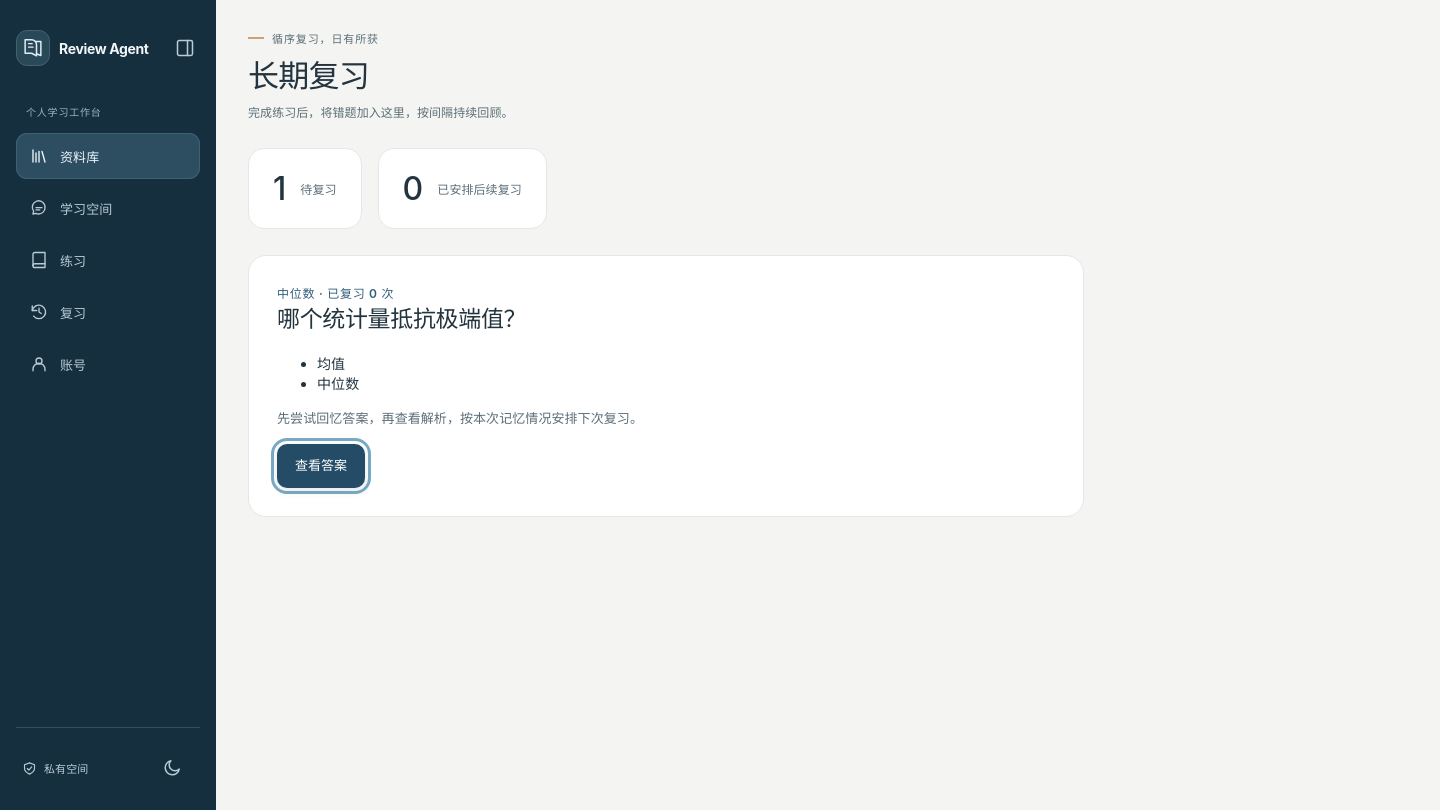
Test case: recall hides answers until keyboard reveal and retry reuses the rating identity
Expected: the text "排序后取中间位置。" is not shown
Press Enter
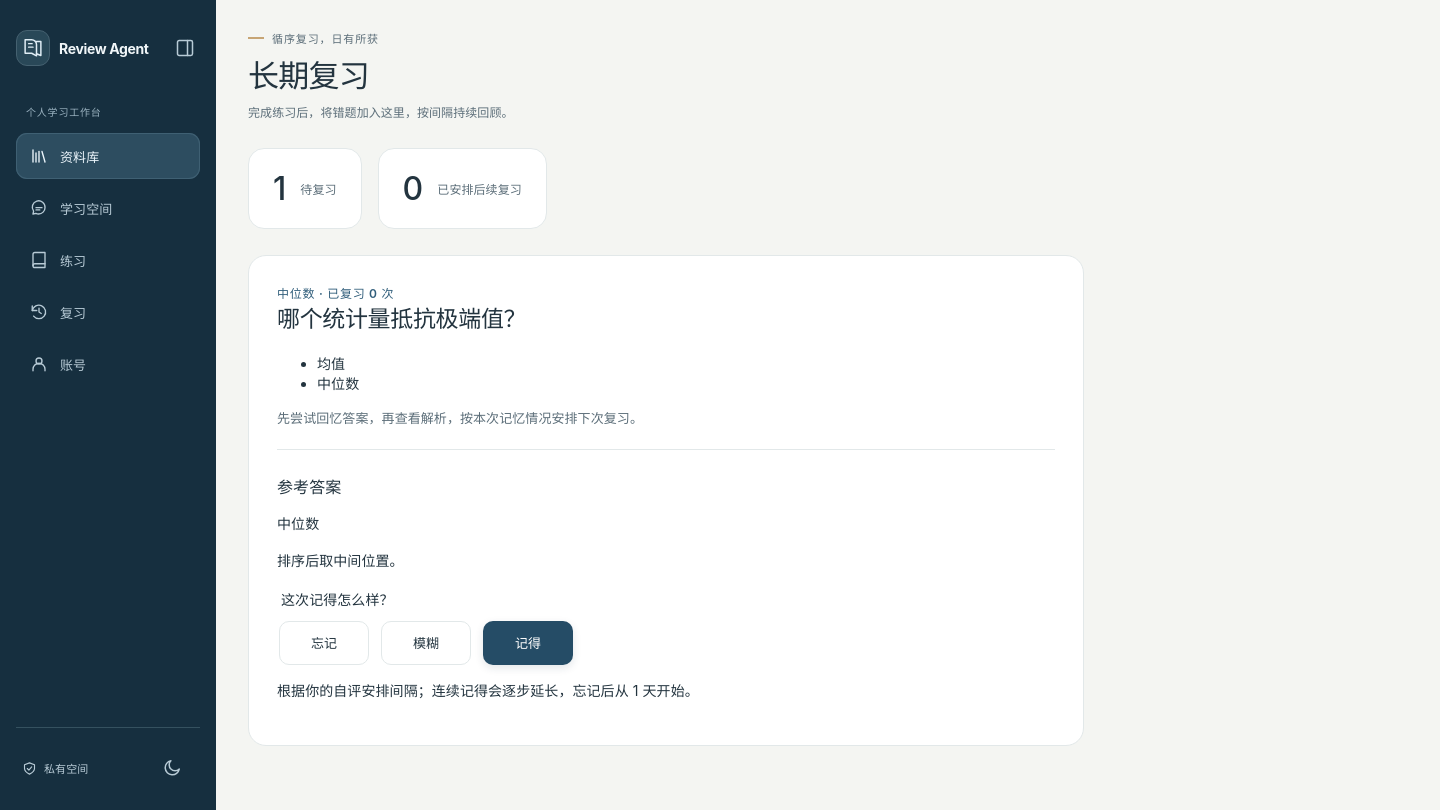
Expected: the text "排序后取中间位置。" is shown, [277,552,404,569]
Click the button "记得": point(528, 643) [483,621,573,665]
(page scrolled)
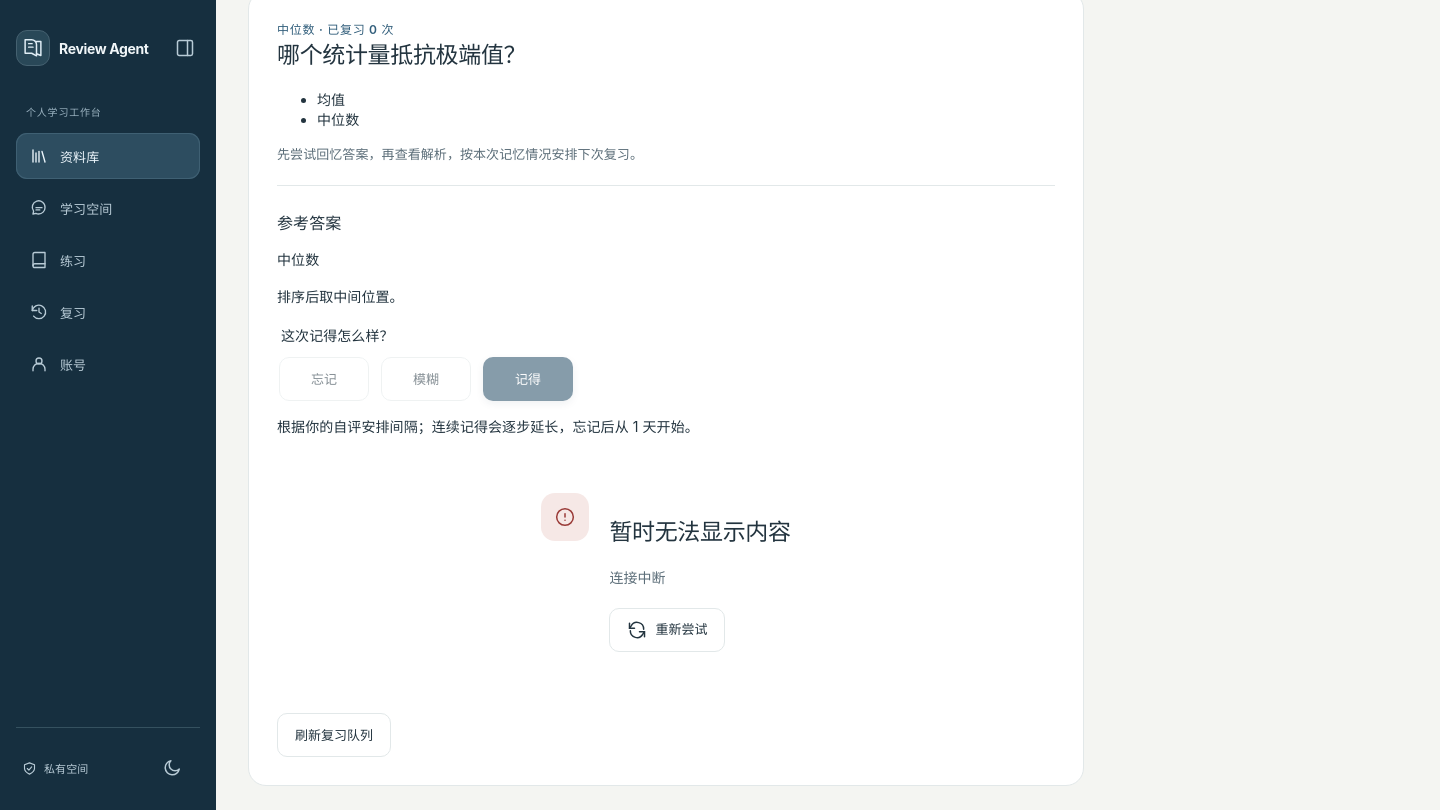
Expected: the button "忘记" is disabled, [279,357,369,401]
Expected: the text "连接中断" is shown, [609,569,666,586]
Click the button "重新尝试": point(667, 630) [609,608,725,652]
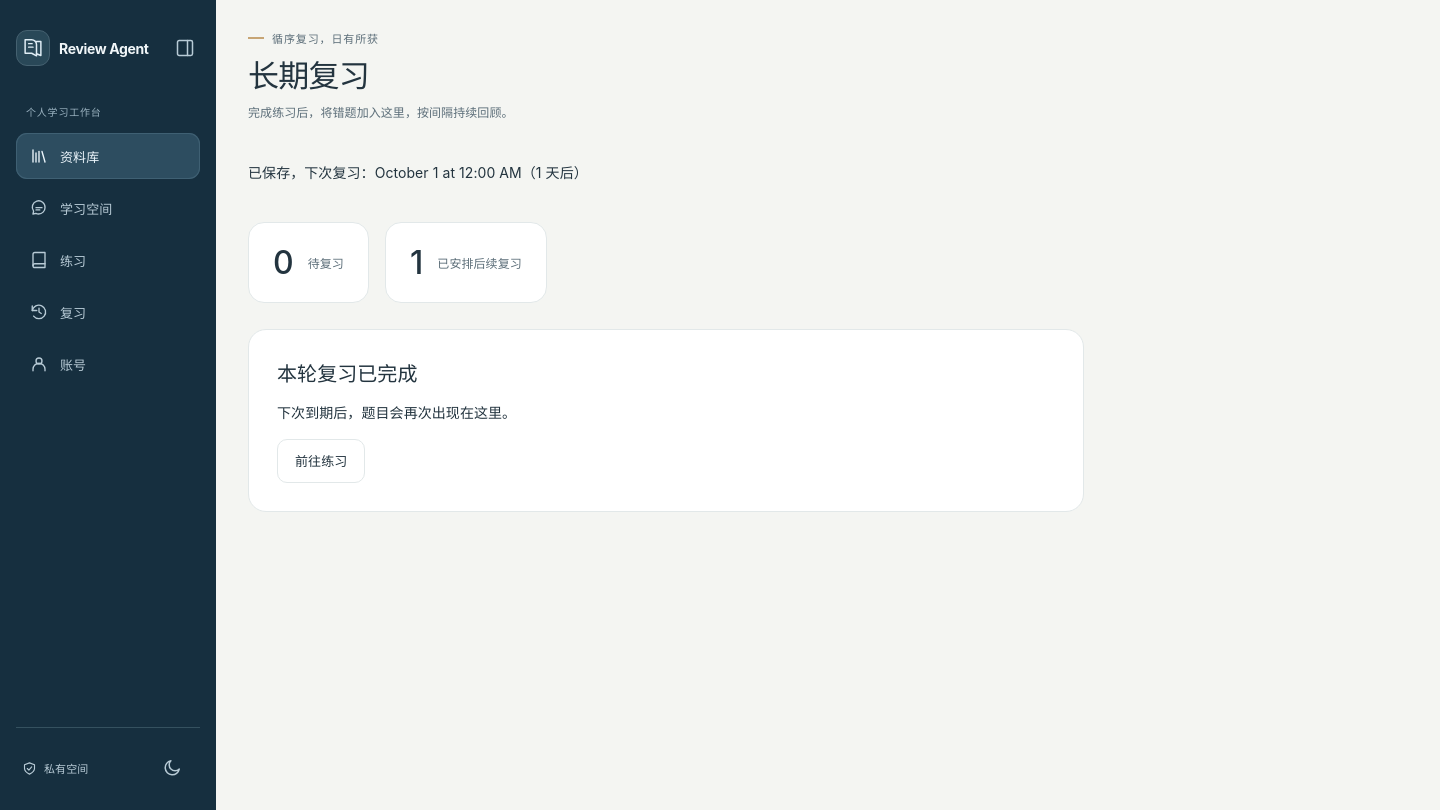
Expected: the heading "本轮复习已完成" is shown, [277,362,418,386]
Expected: the text "已保存，下次复习：October 1 at 12:00 AM（1 天后）" is shown, [248,164,588,181]
